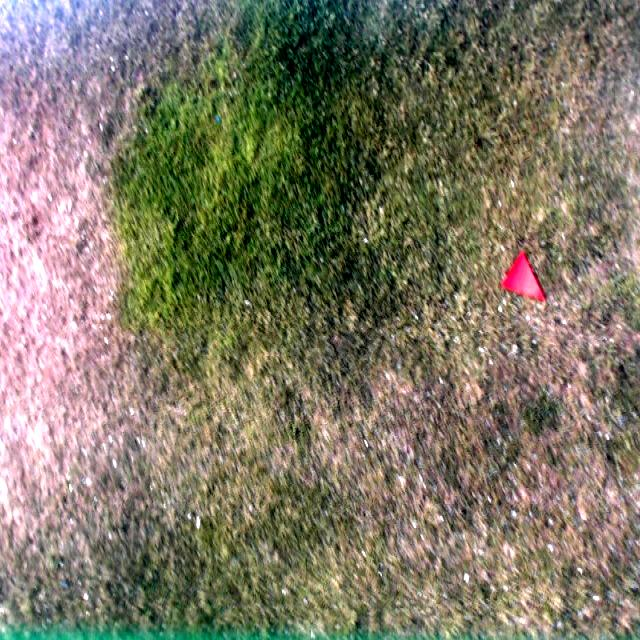red_triangle: (501, 250, 547, 304)
